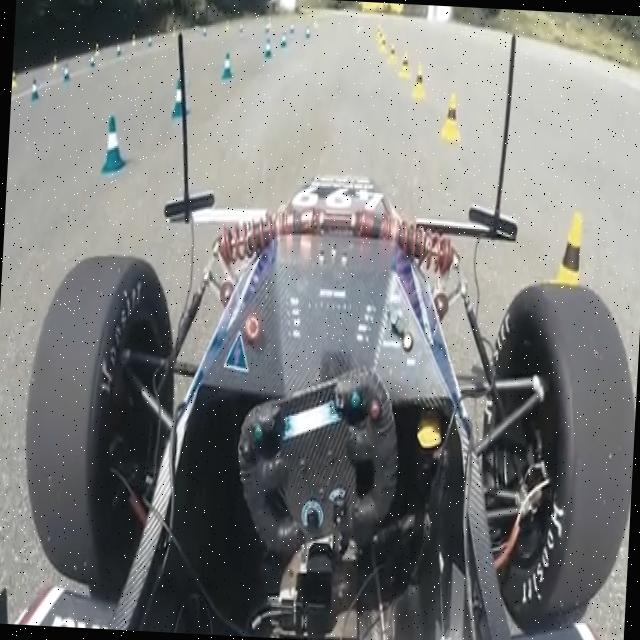blue_cone: (100, 112, 132, 176), (170, 72, 192, 120), (222, 50, 234, 80)
yellow_cone: (543, 210, 588, 320), (438, 88, 464, 144), (411, 60, 430, 104)
